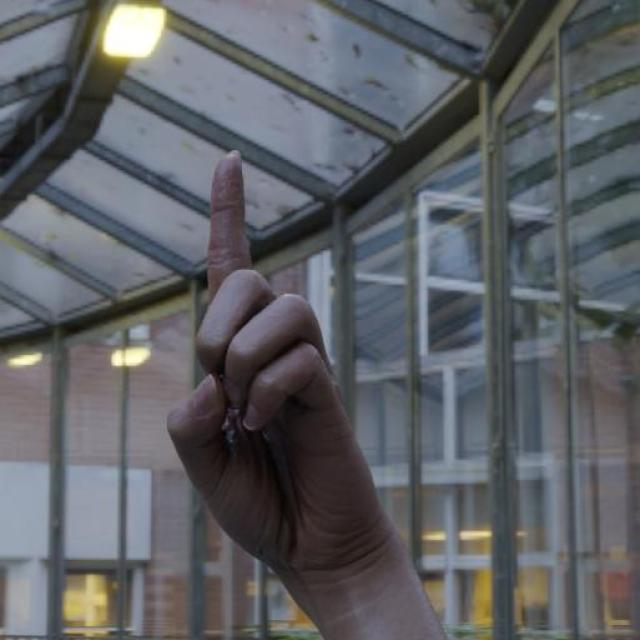D: (164, 144, 419, 578)
